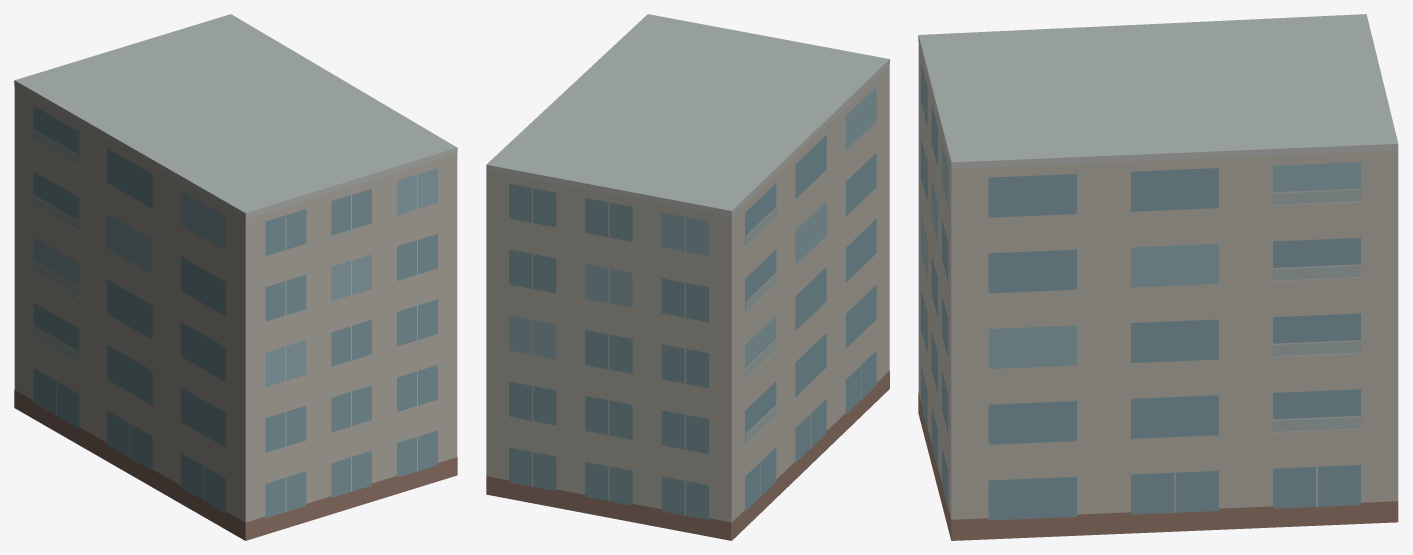
Rendered from survey-upis-32670632.glb.
3 views of the same model, side by side, from view 1: azimuth 30°, elevation 25°; view 2: azimuth 150°, elevation 25°; view 3: azimuth 270°, elevation 25° (orthographic). The views are drawn at different scales.
Parts seen in each view (by area): view 1: survey-upis-32670632.tmp; view 2: survey-upis-32670632.tmp; view 3: survey-upis-32670632.tmp.
Boxes of the visible parts, left/top/right/bottom form: survey-upis-32670632.tmp: left=14, top=14, right=457, bottom=540; survey-upis-32670632.tmp: left=486, top=14, right=889, bottom=540; survey-upis-32670632.tmp: left=918, top=14, right=1398, bottom=540.
Bounding box in the file's own units: 11.95 × 14.2 × 16.32.
